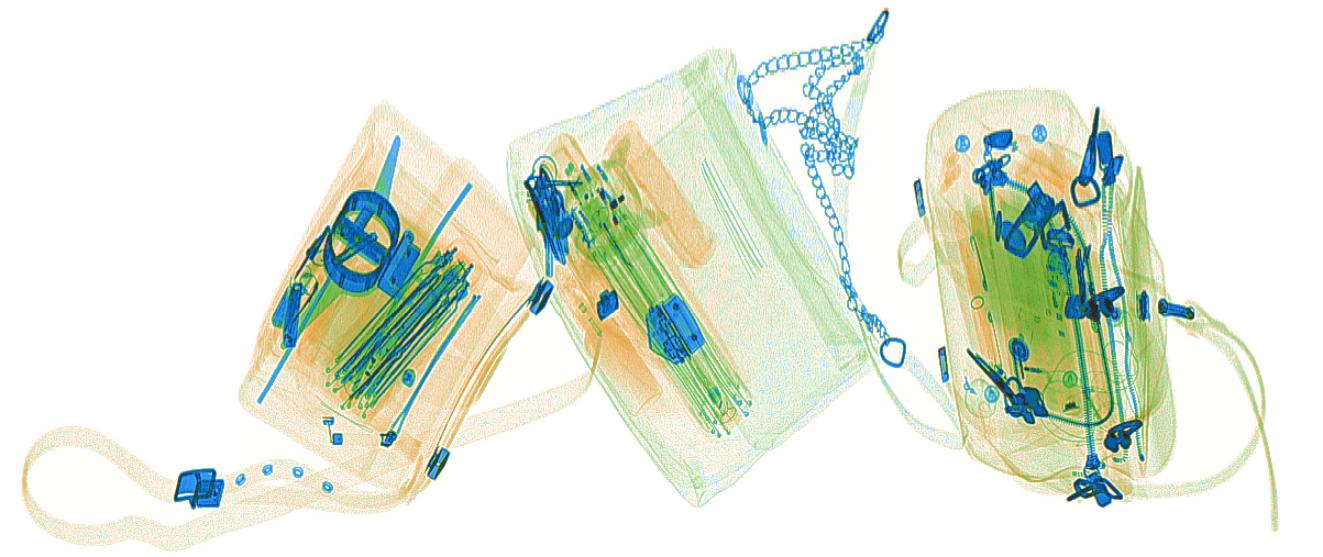plasticBottleWithaNozzle: (555, 264, 665, 418)
